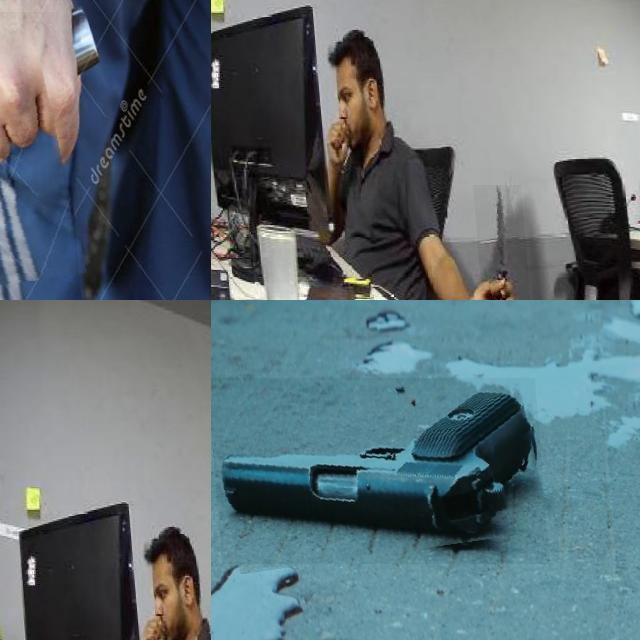-: (0, 12, 211, 300), (465, 185, 521, 300)
gun-knife-thesis - v11 Yolov5 augmented: (211, 378, 542, 563)
